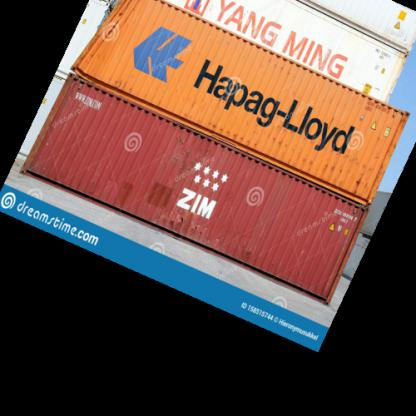Damage: (83, 1, 129, 60)
